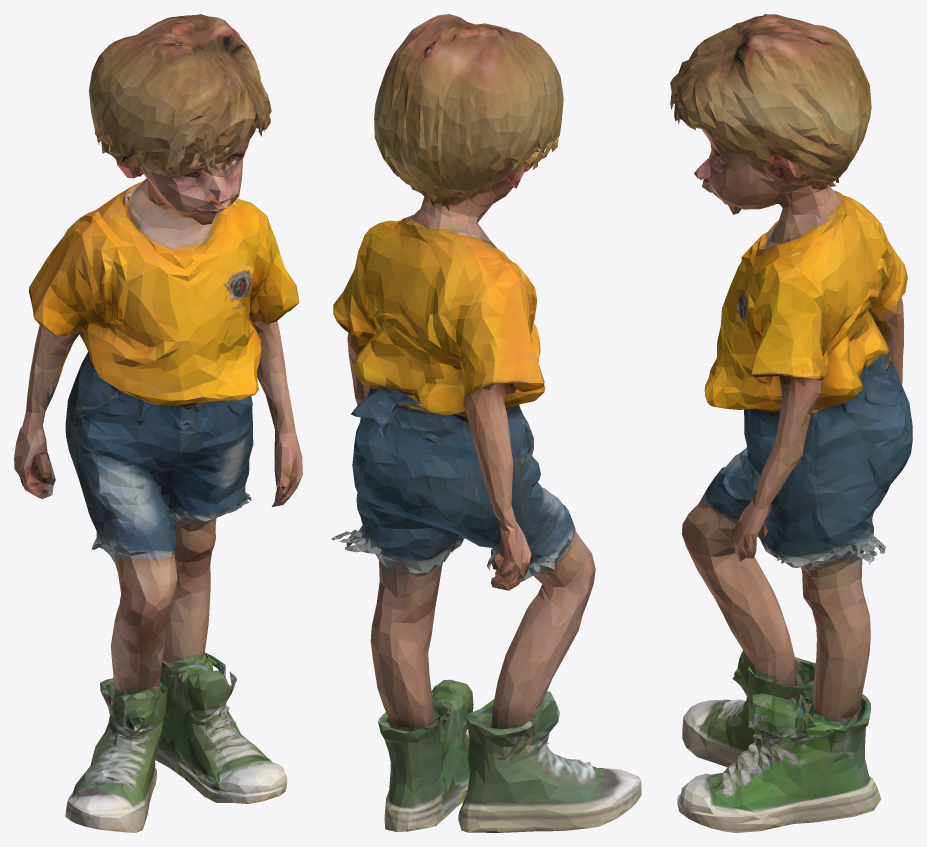
File: Generate_3D_children__0512052238_texture.fbx
3 views of the same model, side by side, from view 1: azimuth 30°, elevation 25°; view 2: azimuth 150°, elevation 25°; view 3: azimuth 270°, elevation 25° (orthographic). The views are drawn at different scales.
Visible parts, largest first — view 1: temp; view 2: temp; view 3: temp.
Part boxes in pixels (bbox=[...]): temp: bbox=[14, 14, 302, 832]; temp: bbox=[331, 14, 641, 832]; temp: bbox=[670, 14, 912, 832].
Size of the model in its own units: 70.24 by 200 by 56.72.
Materials: 1 (1 with a texture image).
